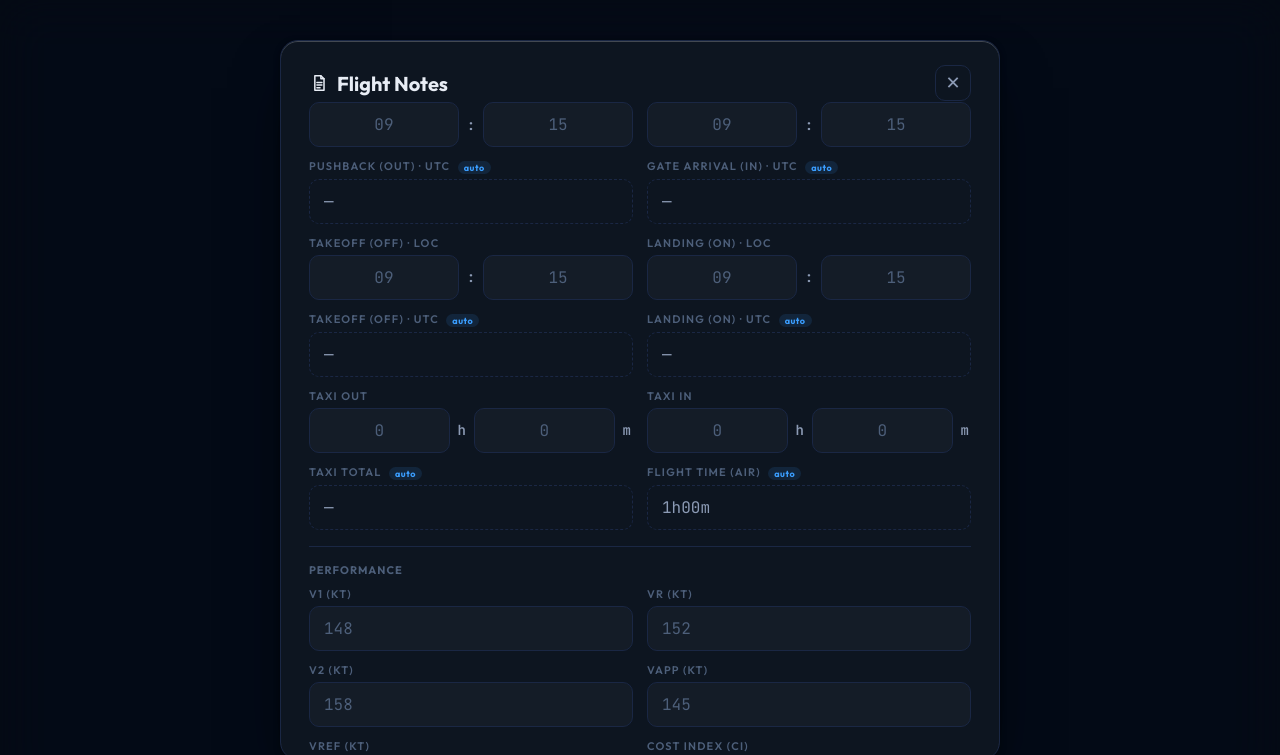
Test case: FlightMemoModal › Taxi out/in は h+m の2箱＝分だけなら "12m"、1時間超は "1h05m" で保存される
This screenshot has width=1280, height=755.
(page scrolled)
In the field with id "memo-taxiOut-m": (544, 430) [474,408,615,453], type "12"
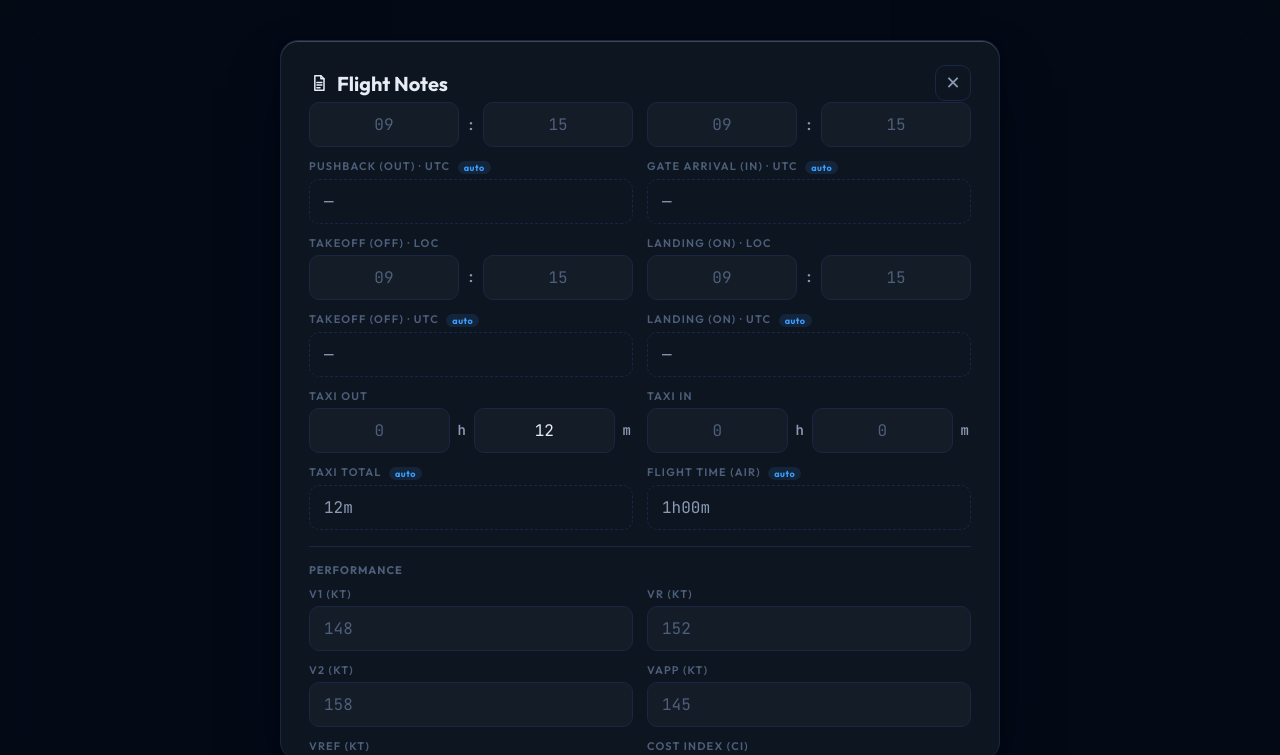
In the field labelled "Taxi in": (717, 430) [647,408,788,453], type "1"
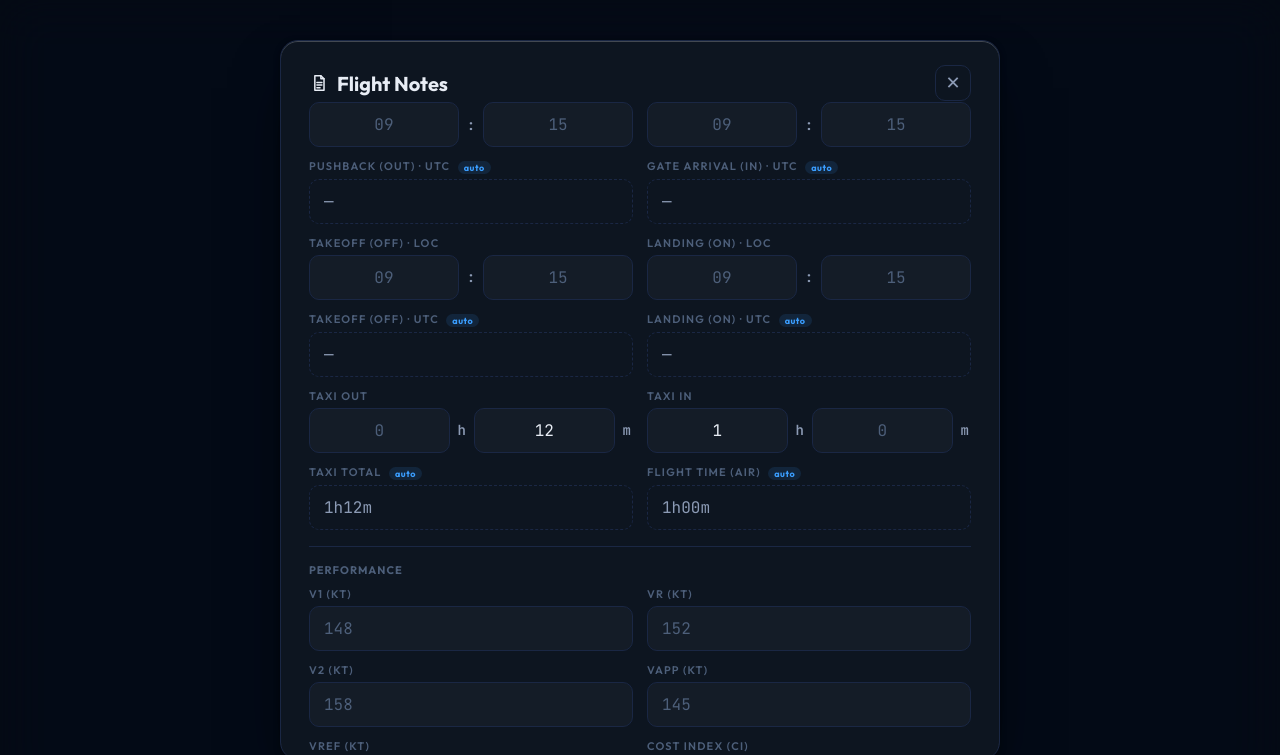
In the field with id "memo-taxiIn-m": (882, 430) [812,408,953,453], type "5"
(page scrolled)
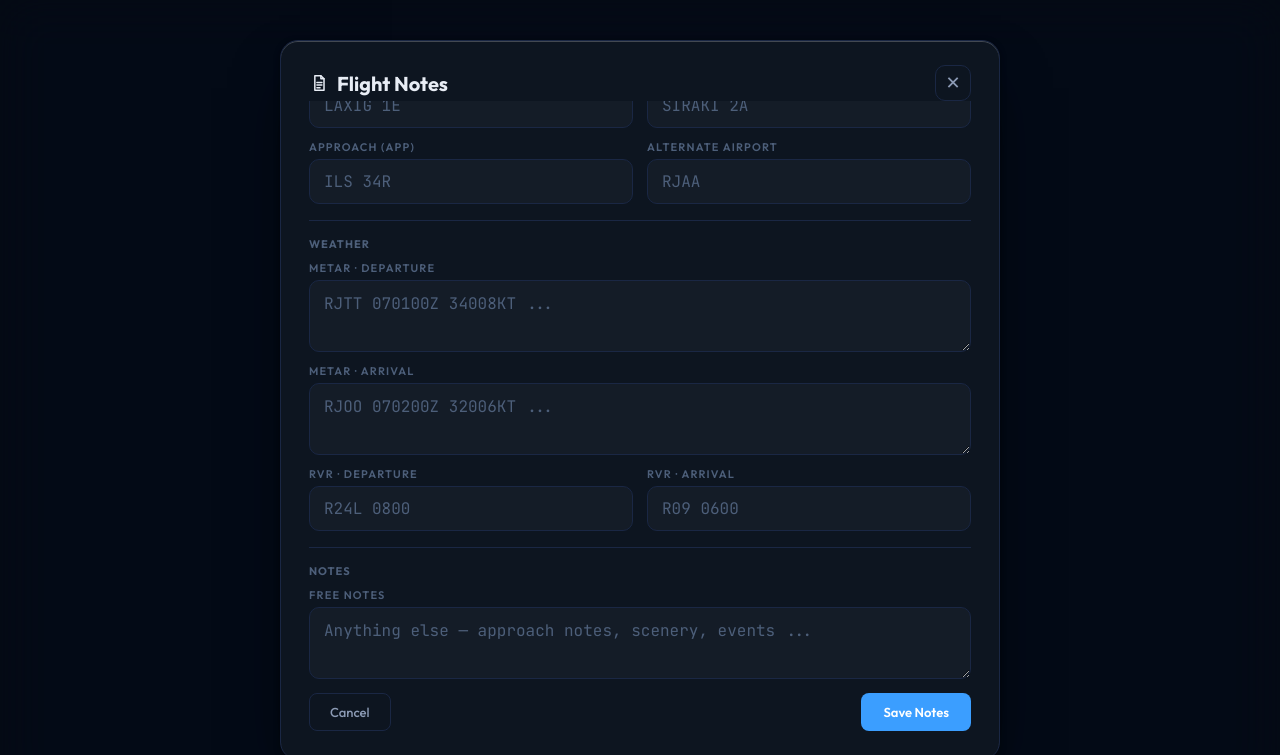
Click the button "Save Notes": (916, 712) [861,693,971,731]
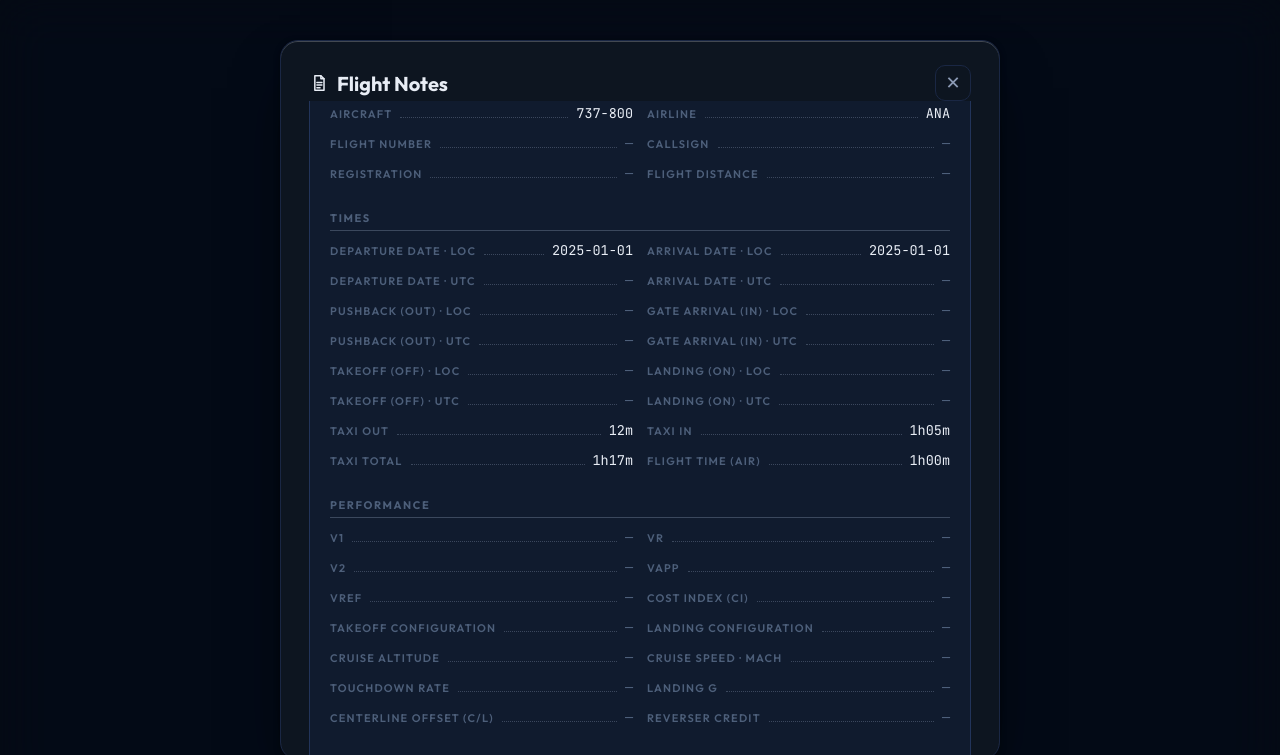
Check: the text "12m" is shown, box [609,421,633,439]
Check: the text "1h05m" is shown, box [910,421,950,439]
